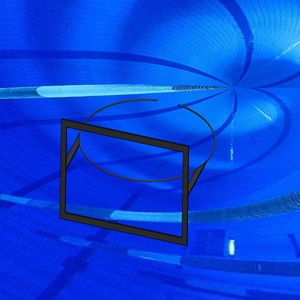circle: (59, 98, 217, 248)
